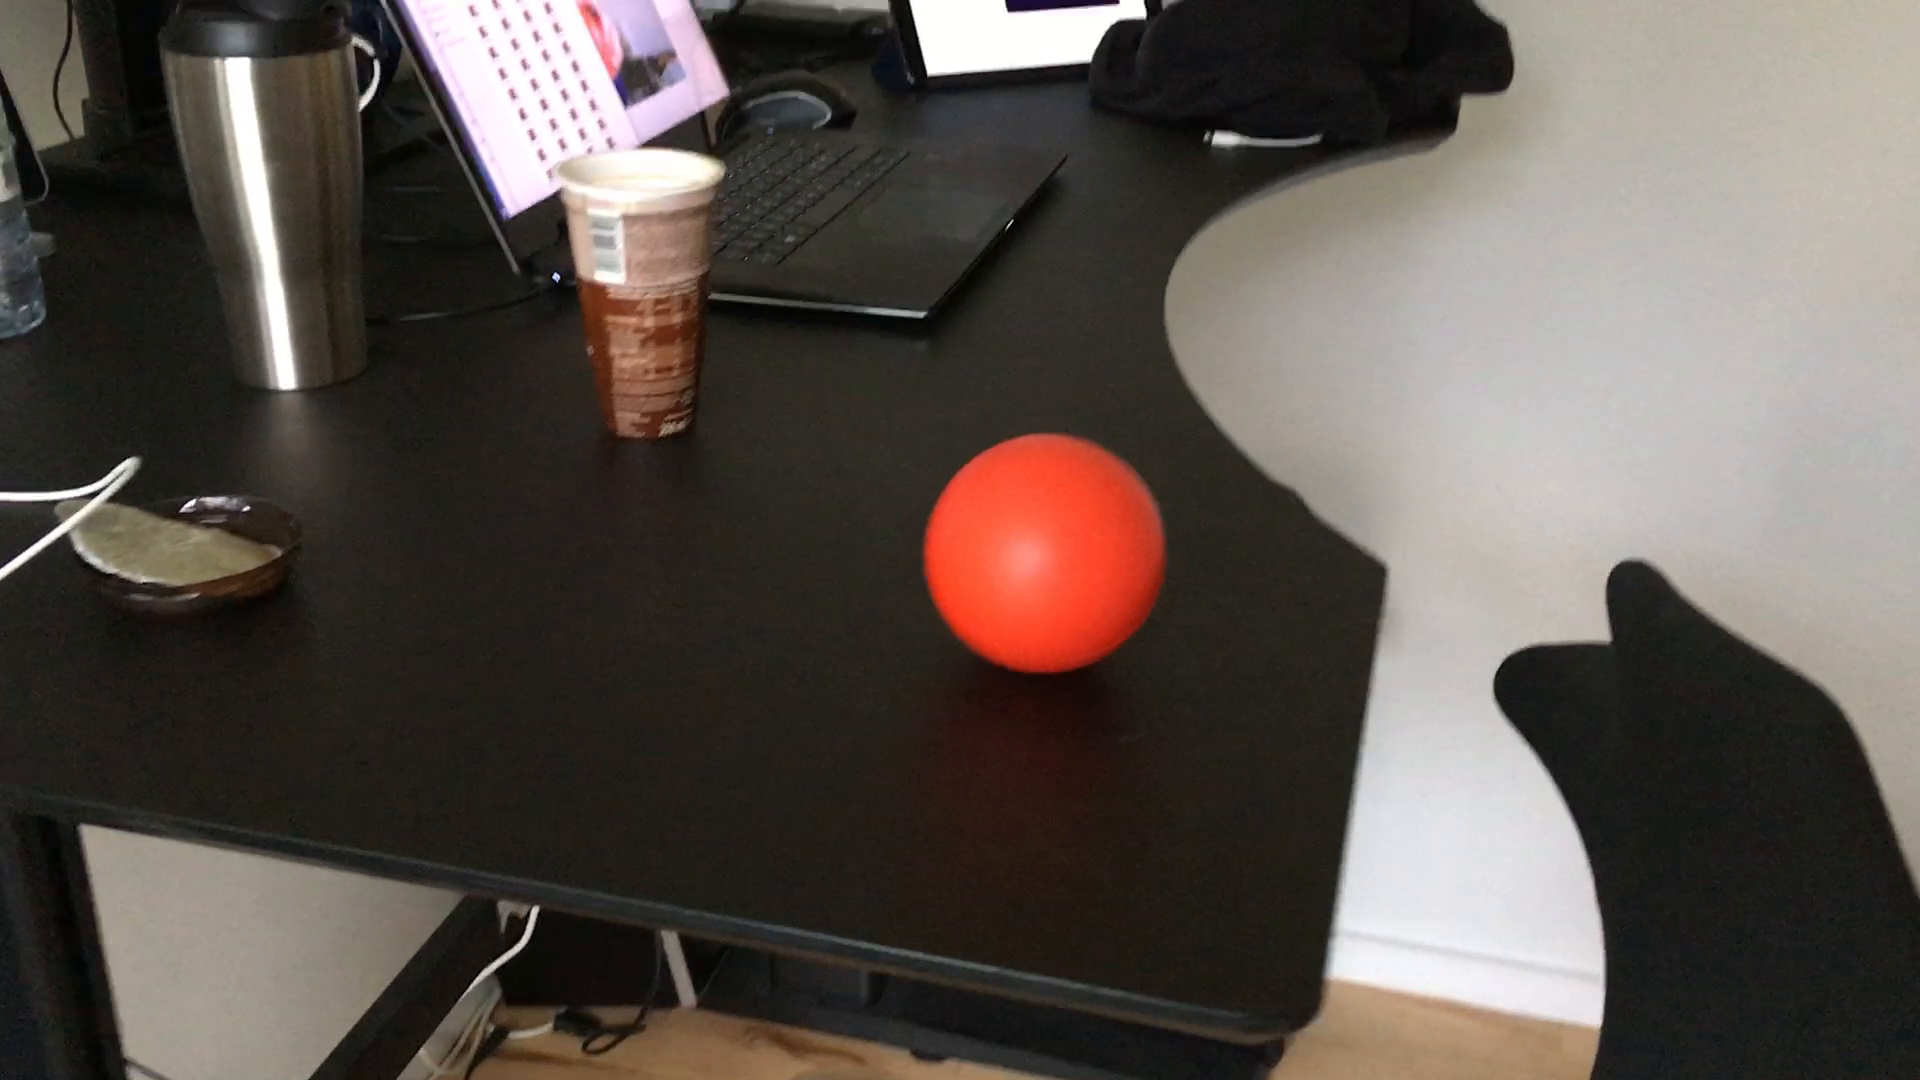Ball: (918, 423, 1164, 676)
